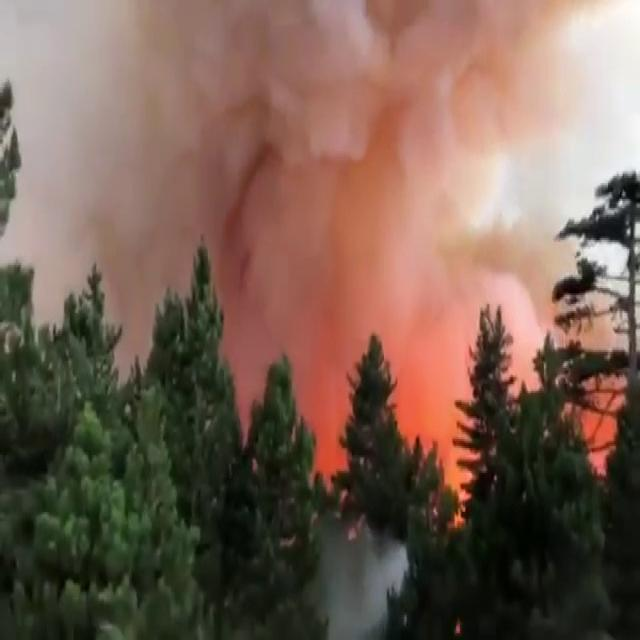Smoke: (140, 4, 548, 388), (20, 0, 250, 322)
